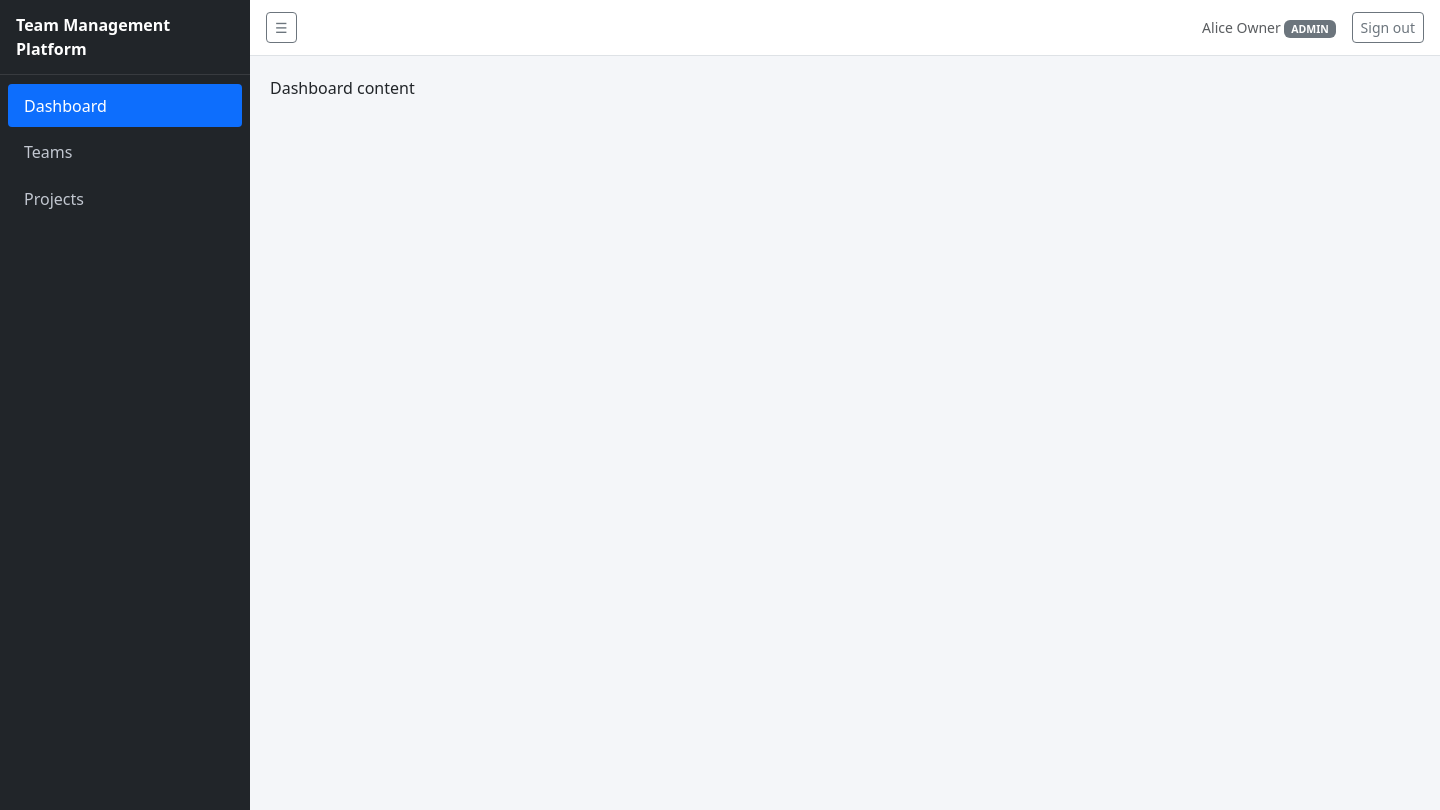
Test: Shell mobile sidebar behavior › starts closed, opens via the hamburger button, and reflects that in aria-expanded
The width and height of the screenshot is (1440, 810).
expect the text "Dashboard content" is shown: met, box top-left (270, 77), bottom-right (415, 99)
Click the button named "Toggle navigation menu" at (281, 28), box top-left (266, 12), bottom-right (297, 43)
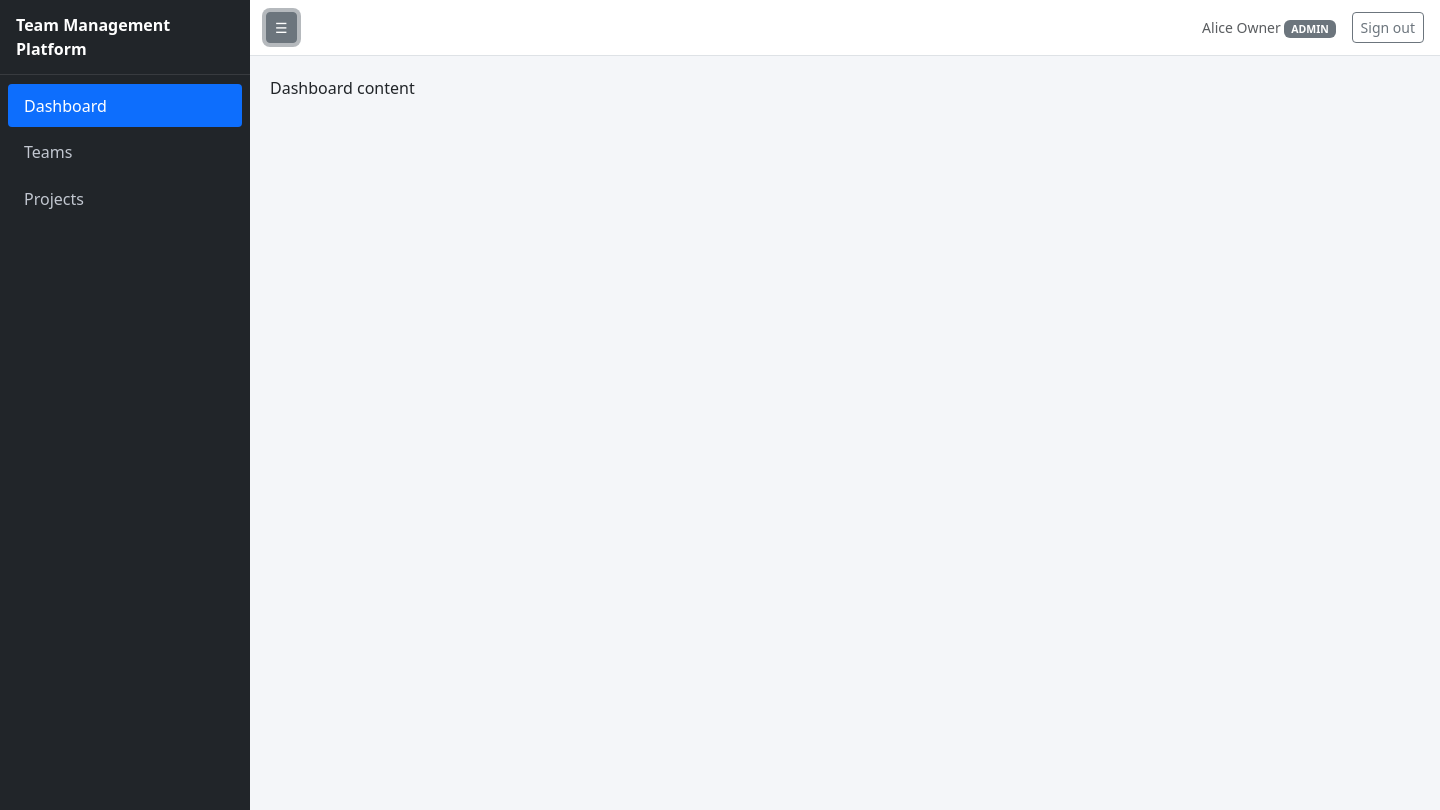
expect the button named "Toggle navigation menu" is expanded: met, box top-left (266, 12), bottom-right (297, 43)
